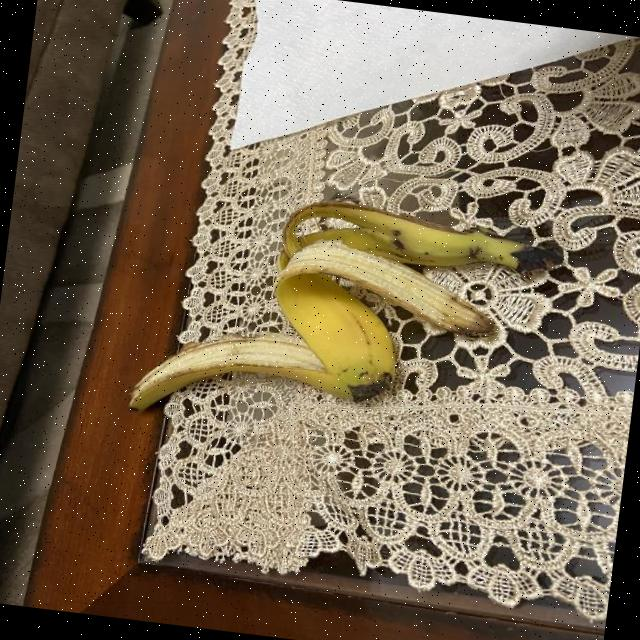banana-peel: (125, 176, 560, 459), (277, 192, 562, 294), (272, 234, 504, 342)
